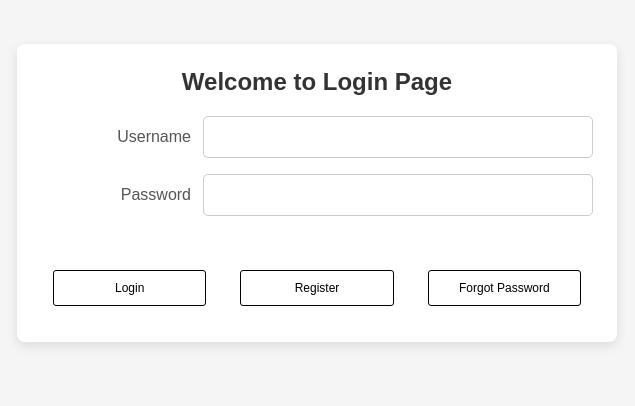
Test: Login component › shows error message on failed login
Note: Simulate entering wrong username
Type "wronguser" into the field labelled "Username" at (398, 137), box [203, 116, 593, 158]
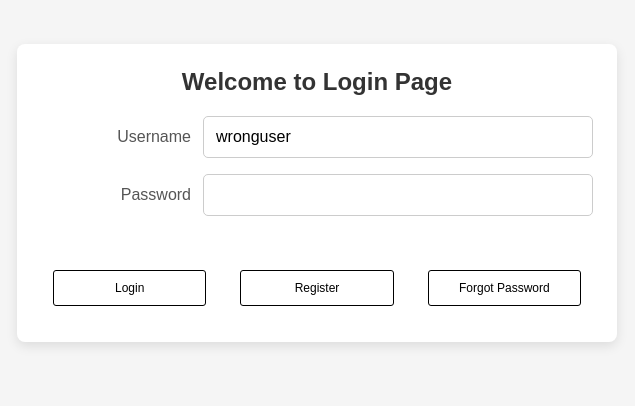
Note: Simulate entering wrong password
Type "wrongpass" into the password field labelled "Password" at (398, 195), box [203, 174, 593, 216]
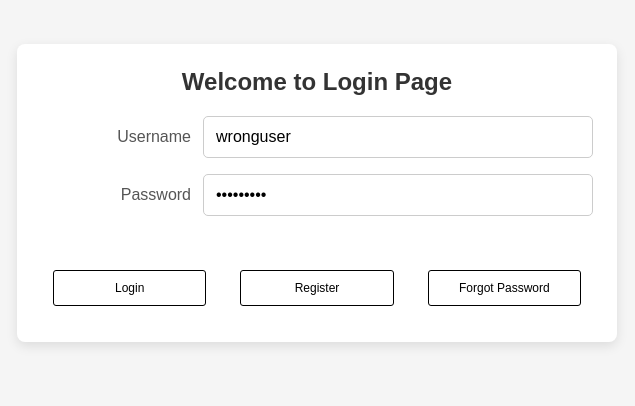
Note: Click the login button to submit form
Click the button "Login" at (130, 288), box [53, 270, 206, 306]
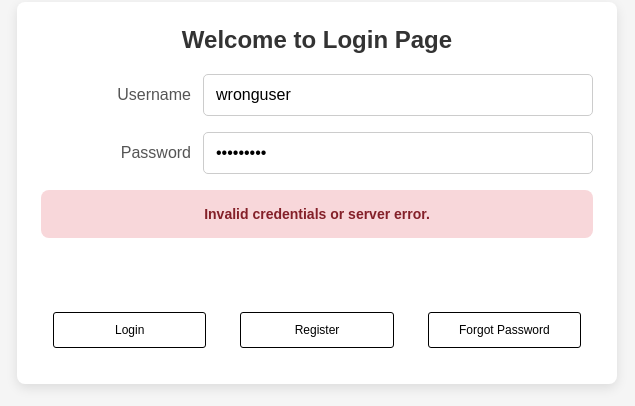
Result: the text "Invalid credentials or server error." is shown at [41, 190, 593, 238]
